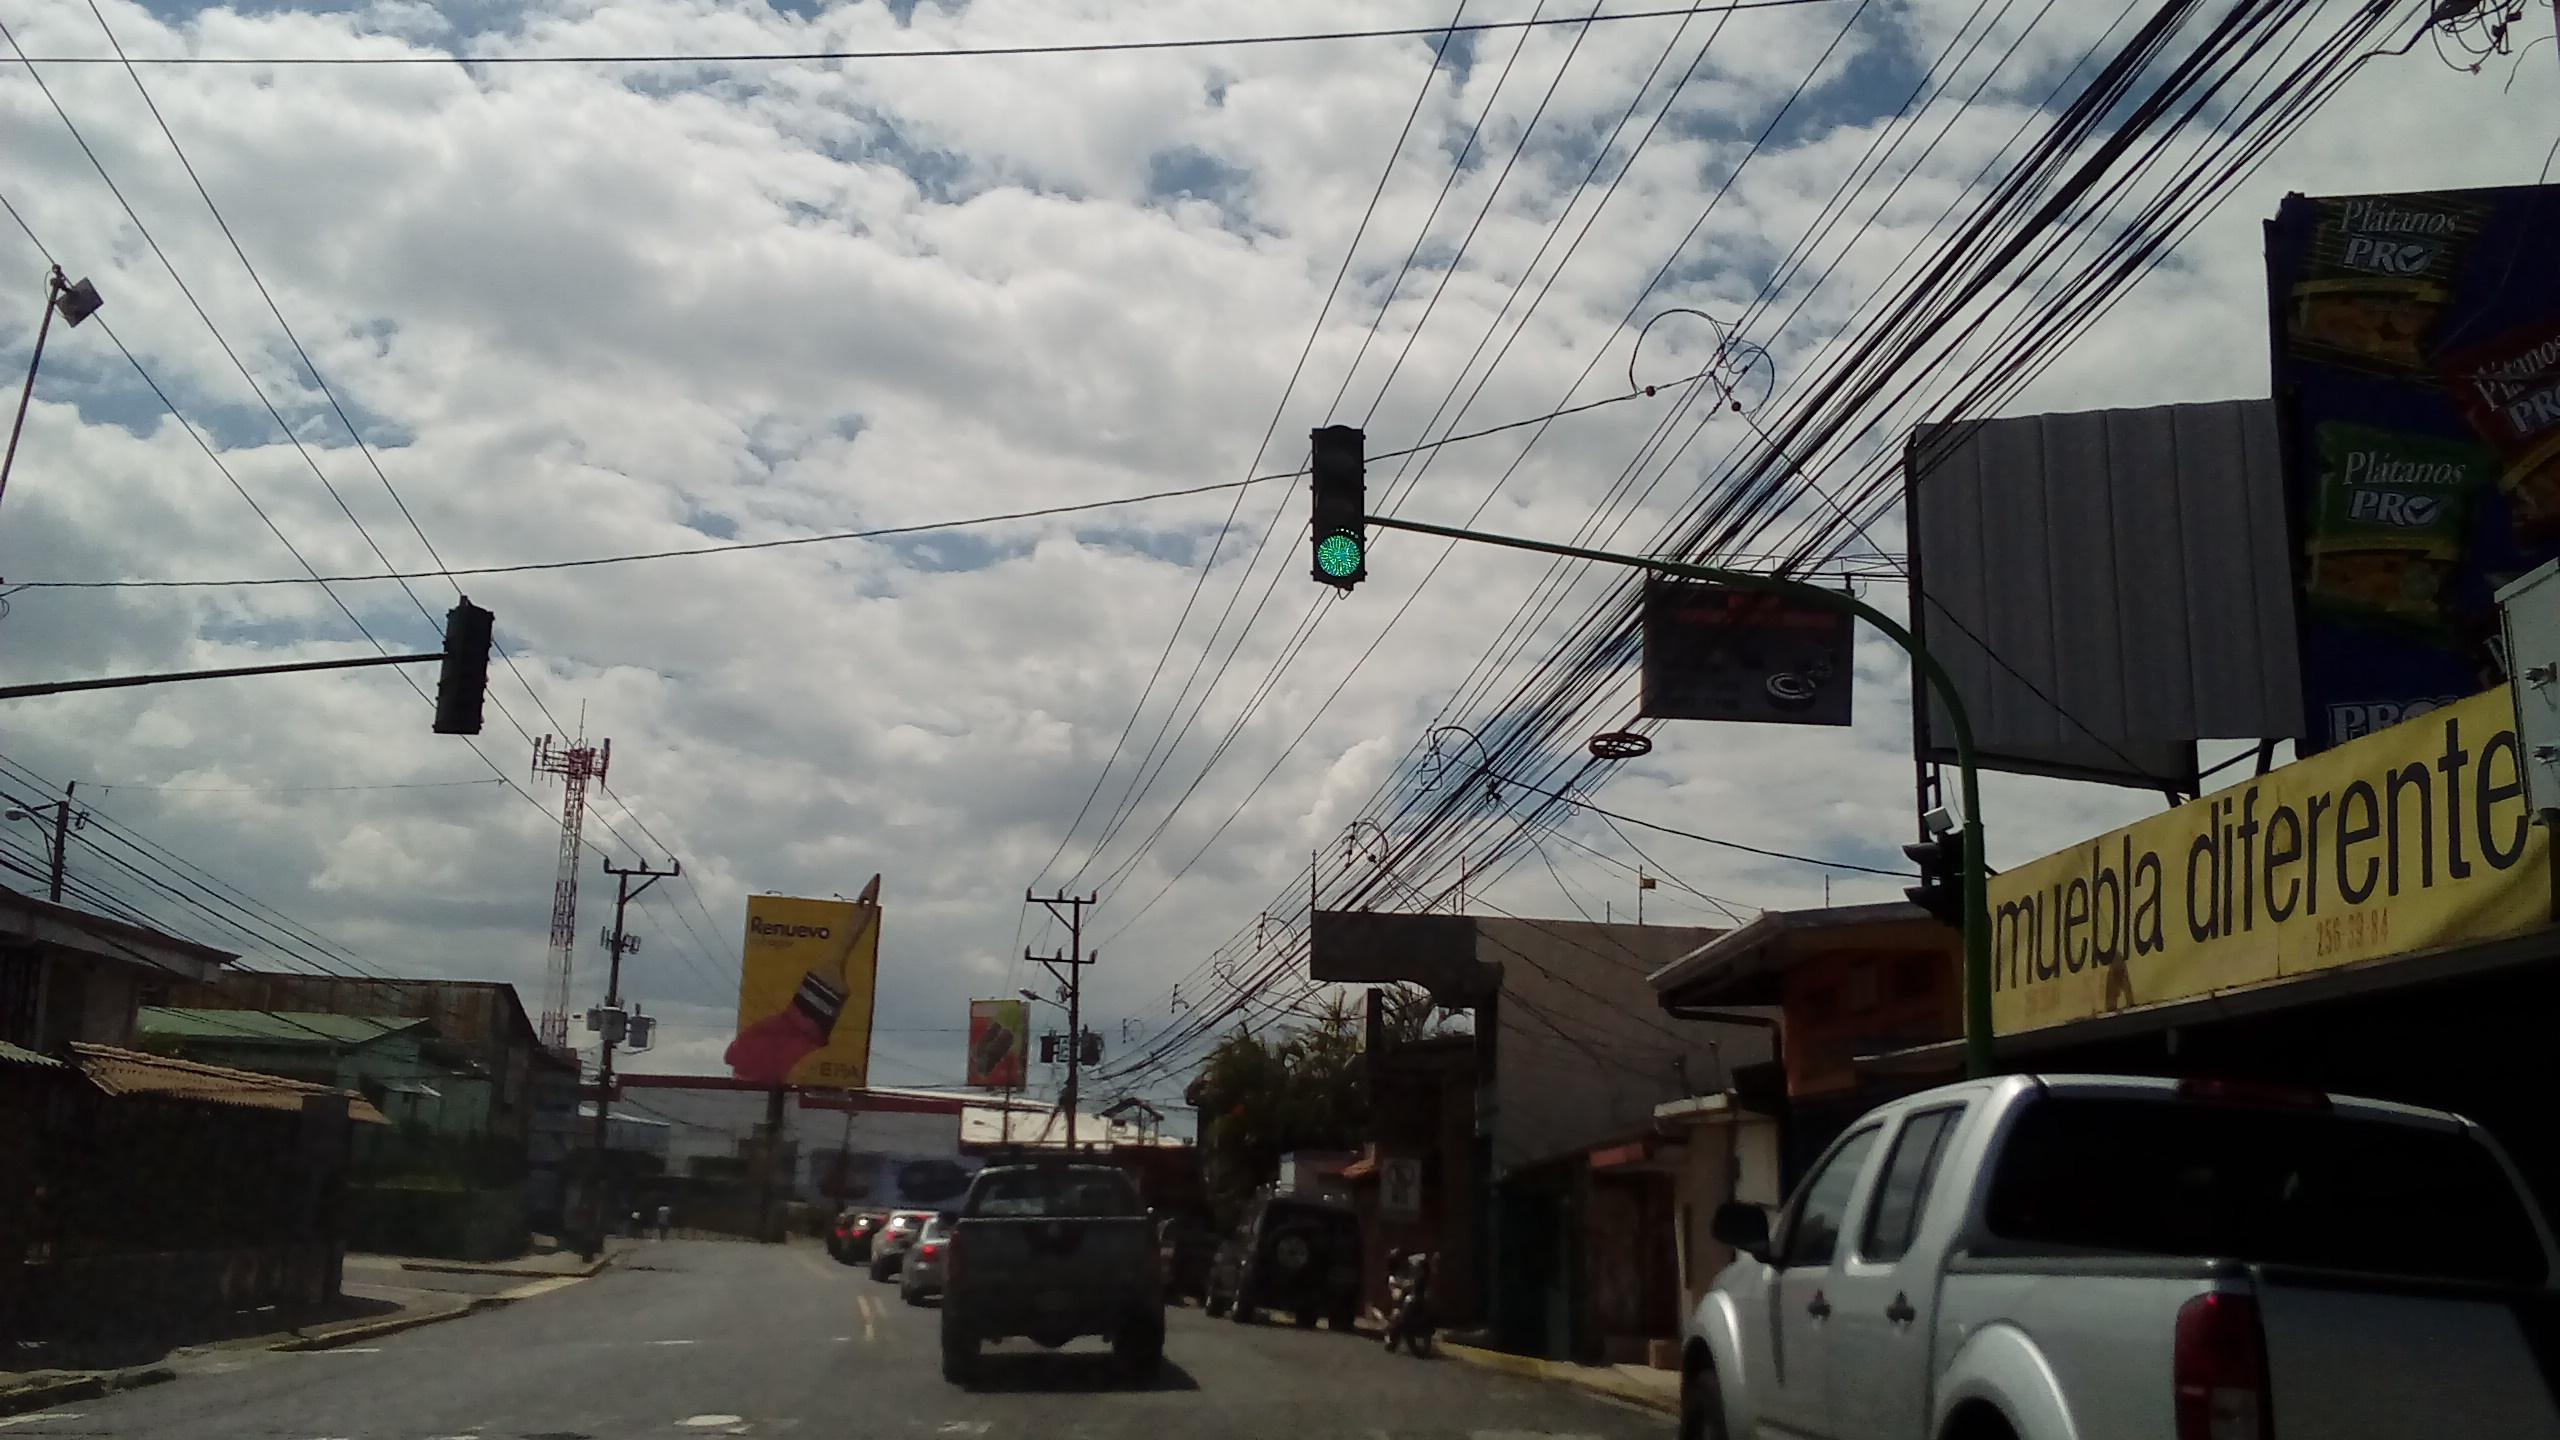vinyl banner: (1936, 693, 2555, 1046)
